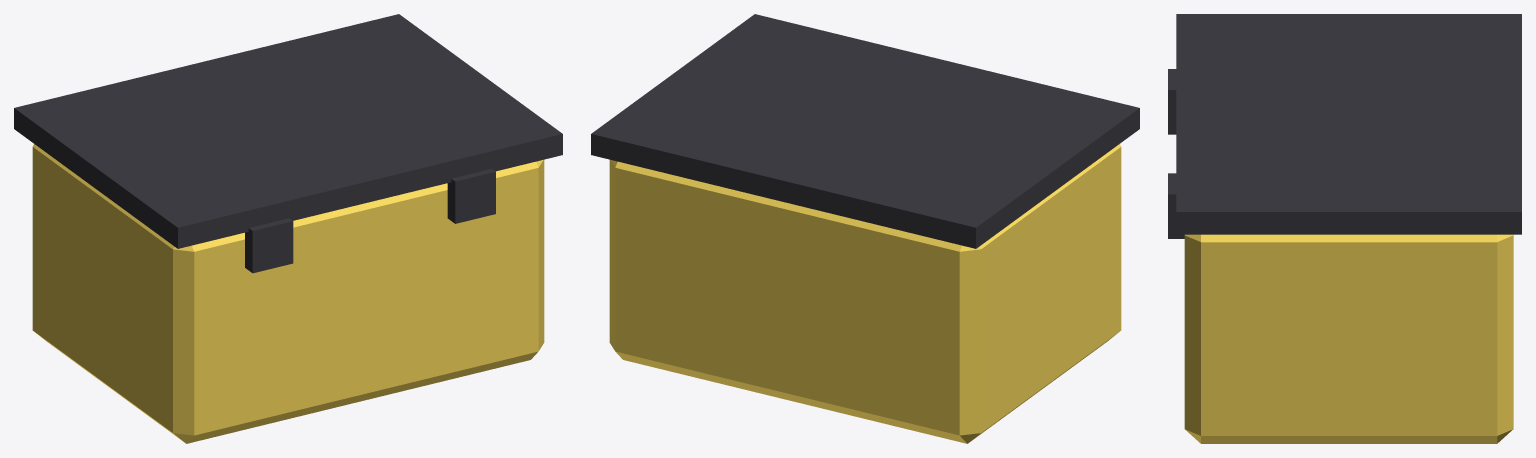
Rendered from sm_container_waterproof_box.glb.
3 renders of one model, left to right at view 1: azimuth 30°, elevation 25°; view 2: azimuth 150°, elevation 25°; view 3: azimuth 270°, elevation 25°, orthographic. The views are drawn at different scales.
Parts seen in each view (by area): view 1: waterproof_box, waterproof_box_lid, waterproof_box_latch_a, waterproof_box_latch_b; view 2: waterproof_box, waterproof_box_lid; view 3: waterproof_box_lid, waterproof_box, waterproof_box_latch_b, waterproof_box_latch_a.
Part boxes in pixels (left/top/right/bottom): waterproof_box: left=32, top=144, right=544, bottom=443; waterproof_box_lid: left=14, top=14, right=562, bottom=248; waterproof_box_latch_a: left=245, top=218, right=293, bottom=273; waterproof_box_latch_b: left=447, top=169, right=495, bottom=223; waterproof_box: left=609, top=144, right=1121, bottom=443; waterproof_box_lid: left=591, top=14, right=1139, bottom=248; waterproof_box_lid: left=1176, top=14, right=1521, bottom=234; waterproof_box: left=1184, top=234, right=1513, bottom=443; waterproof_box_latch_b: left=1168, top=173, right=1184, bottom=238; waterproof_box_latch_a: left=1168, top=69, right=1176, bottom=134.
Size of what is drawn, in the model's own units: 0.57 by 0.325 by 0.43.
